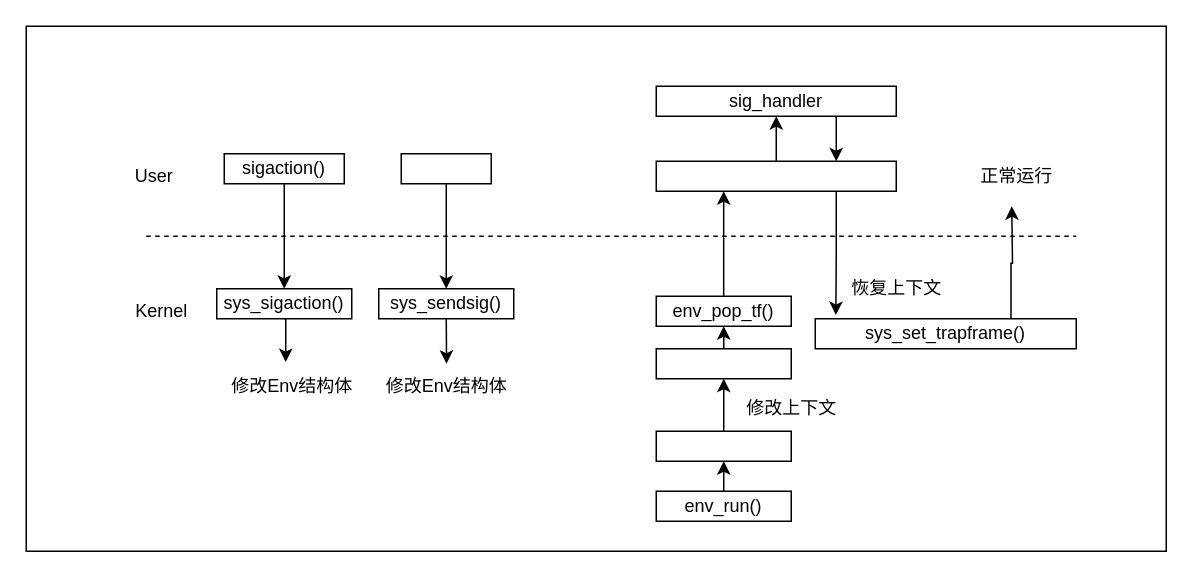
The diagram is 1193 pixels wide and 578 high, and some of its shapes have lost their labels. Each missing label, with the centre of its shape:
do_signal(): (x=723, y=445)
kill(): (x=445, y=168)
sig_setuptf(): (x=723, y=363)
sighand_entry: (x=775, y=175)
